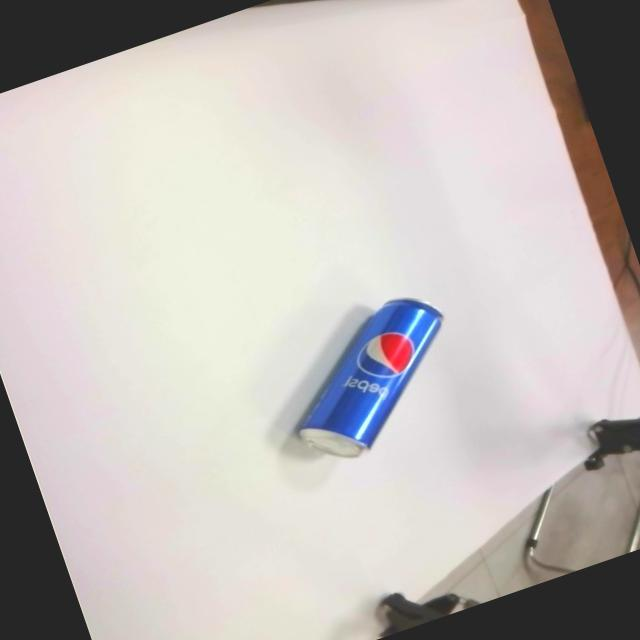debris: (264, 284, 478, 472)
